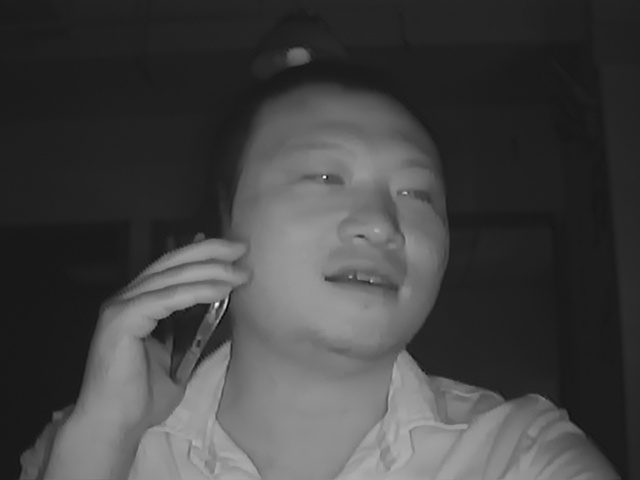hand: (81, 231, 244, 436)
